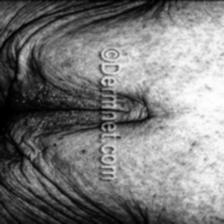Toxin: (10, 84, 94, 128)
